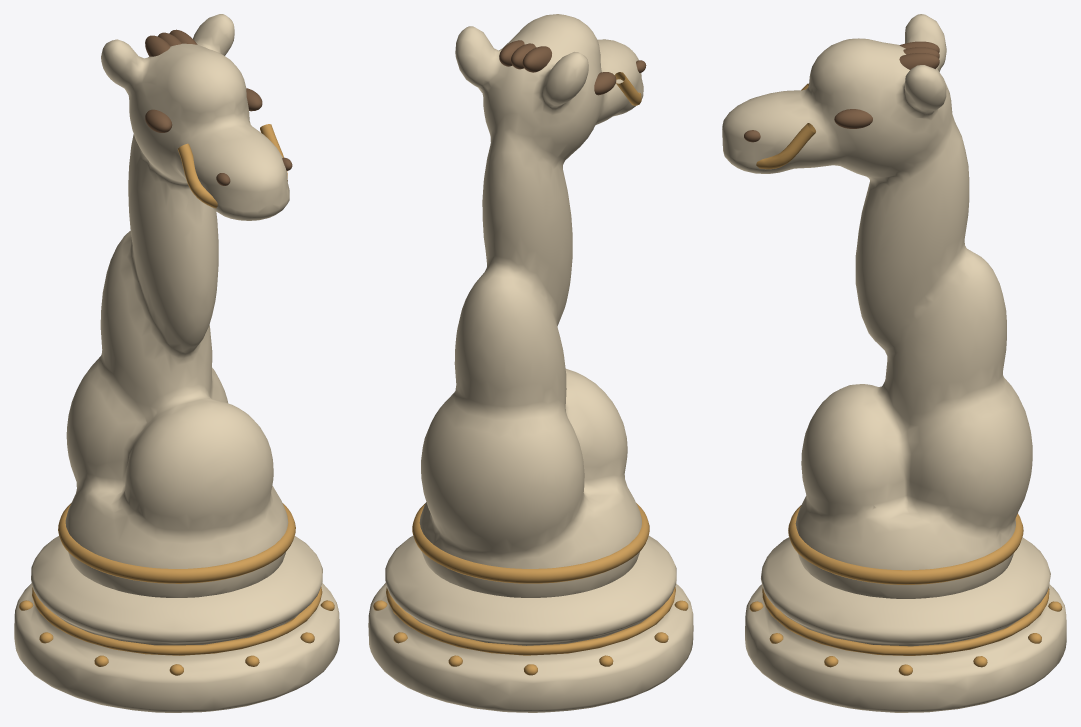
The model's file is camel.glb.
3 renders of one model, left to right at view 1: azimuth 30°, elevation 25°; view 2: azimuth 150°, elevation 25°; view 3: azimuth 270°, elevation 25°, orthographic.
Parts seen in each view (by area): view 1: PIECE_Camel_Sculpture, PIECE_Camel_Base; view 2: PIECE_Camel_Sculpture, PIECE_Camel_Base; view 3: PIECE_Camel_Sculpture, PIECE_Camel_Base.
Boxes of the visible parts, x1,y1,x2,y2 form: PIECE_Camel_Sculpture: (58,14,295,597); PIECE_Camel_Base: (14,536,339,712); PIECE_Camel_Sculpture: (412,14,649,597); PIECE_Camel_Base: (368,536,693,712); PIECE_Camel_Sculpture: (722,14,1032,598); PIECE_Camel_Base: (745,537,1066,712).
Bounding box in the file's own units: 0.719 × 1.5 × 0.7699.
